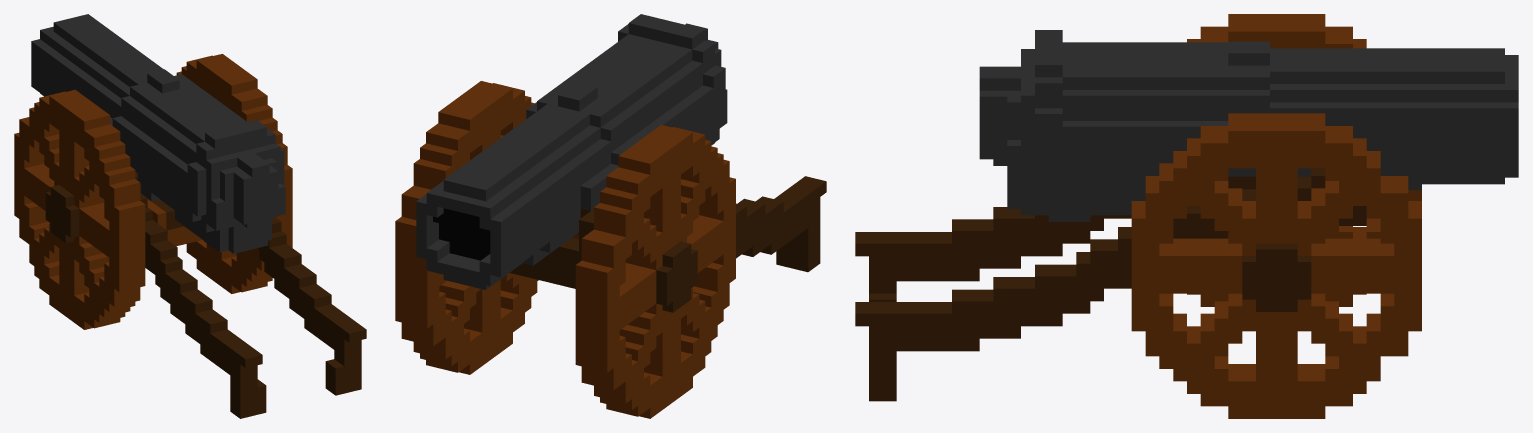
The model's file is simple_cannon.glb.
3 renders of one model, left to right at view 1: azimuth 30°, elevation 25°; view 2: azimuth 150°, elevation 25°; view 3: azimuth 270°, elevation 25°, orthographic. The views are drawn at different scales.
Size of the model in its own units: 0.44 by 0.5 by 0.96.
